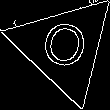O_S: (37, 17, 92, 77)
